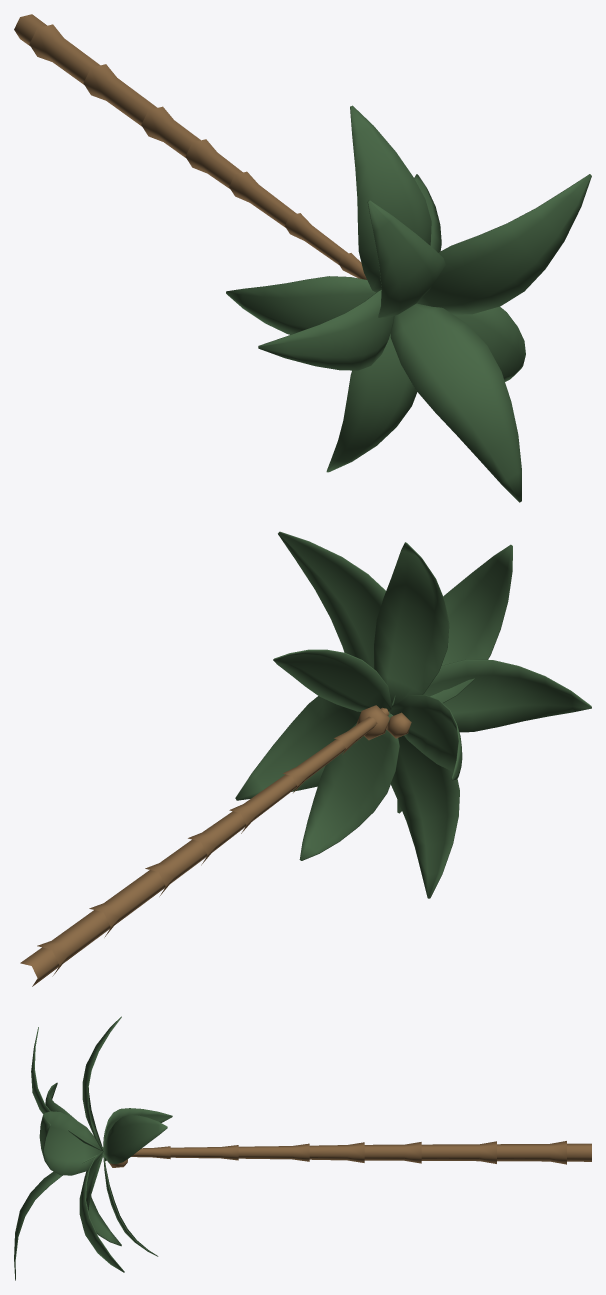
File: tree_palm.glb
3 renders of one model, top to bottom at view 1: azimuth 30°, elevation 25°; view 2: azimuth 150°, elevation 25°; view 3: azimuth 270°, elevation 25°, orthographic. The views are drawn at different scales.
Parts seen in each view (by area): view 1: tree_palm_tall; view 2: tree_palm_tall; view 3: tree_palm_tall.
Boxes of the visible parts, <box> form: tree_palm_tall: <box>14,14,591,502</box>; tree_palm_tall: <box>20,531,591,986</box>; tree_palm_tall: <box>14,1016,591,1280</box>.
Size of the model in its own units: 3.42 by 3.59 by 7.94.
